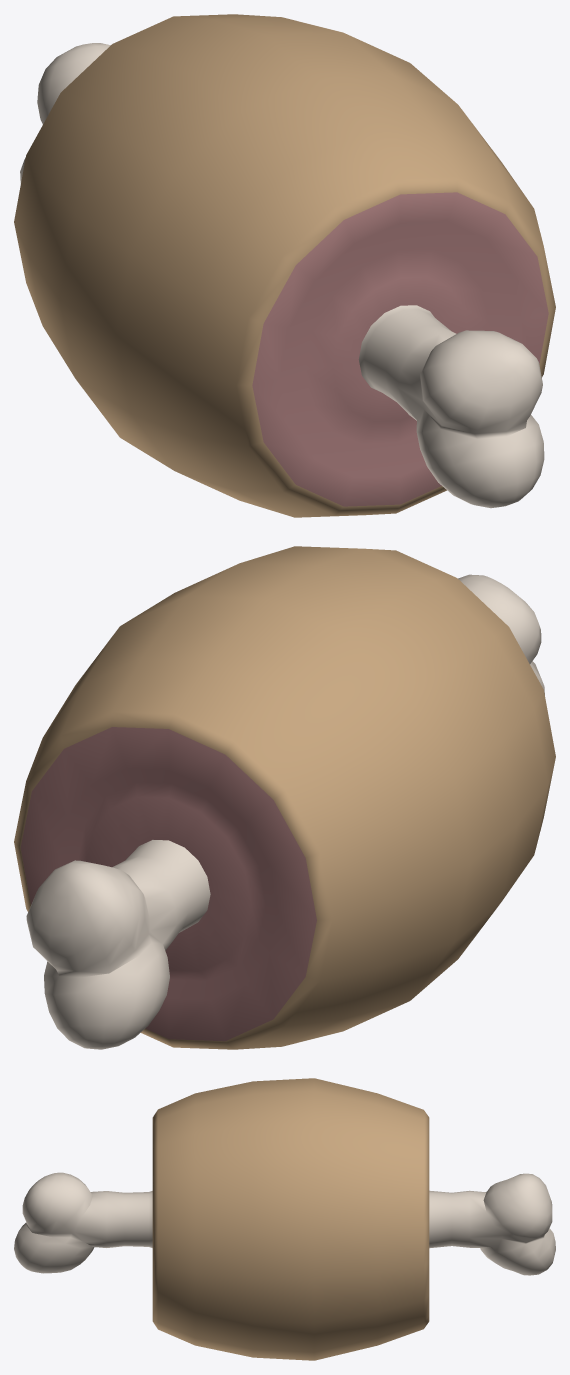
The model's file is MeatBone_01.fbx.
3 renders of one model, top to bottom at view 1: azimuth 30°, elevation 25°; view 2: azimuth 150°, elevation 25°; view 3: azimuth 270°, elevation 25°, orthographic. The views are drawn at different scales.
Parts seen in each view (by area): view 1: MeatBone; view 2: MeatBone; view 3: MeatBone.
Part boxes in pixels (x1,y1,x2,y2): MeatBone: (14, 14, 555, 517); MeatBone: (14, 546, 555, 1049); MeatBone: (14, 1078, 555, 1360).
Size of the model in its own units: 14.65 by 14.65 by 28.07.
